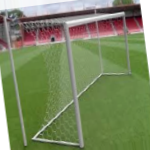goals: (24, 10, 132, 147)
